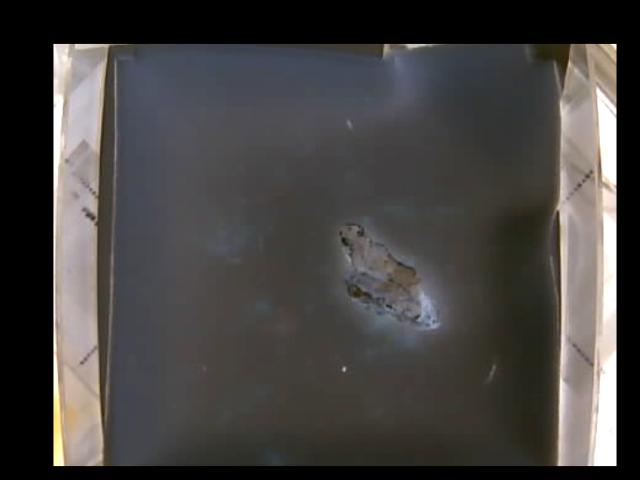Brisk: (341, 225, 437, 328)
